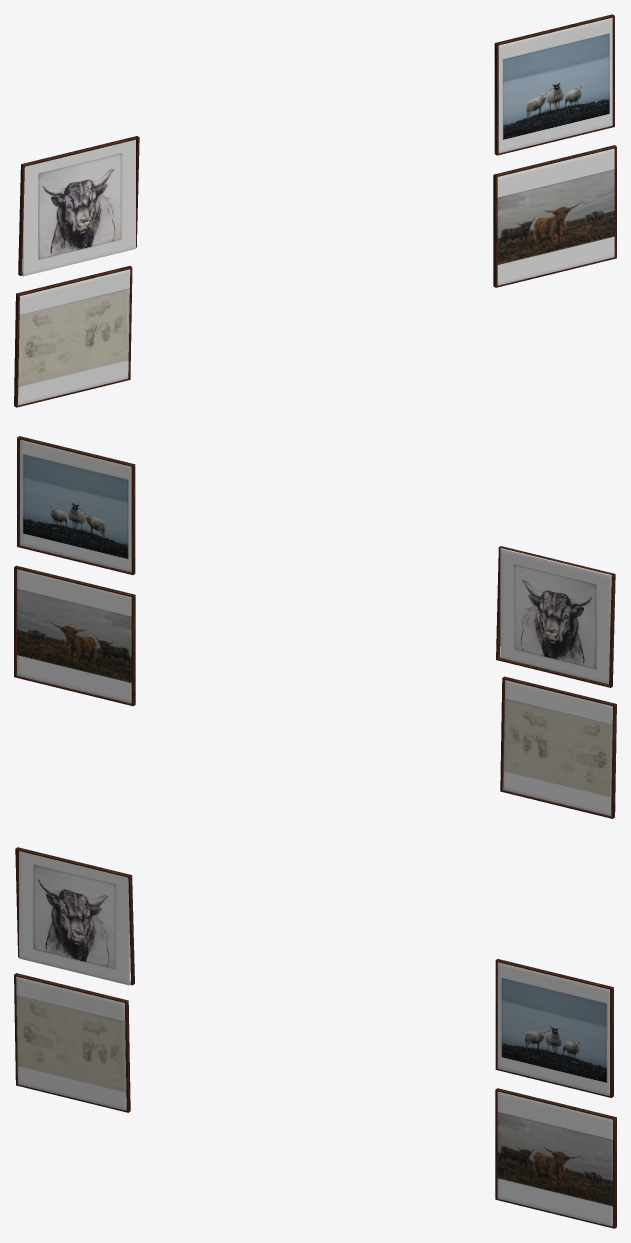
The model's file is bull.glb.
3 views of the same model, one above another, from view 1: azimuth 30°, elevation 25°; view 2: azimuth 150°, elevation 25°; view 3: azimuth 330°, elevation 25° (orthographic).
Parts seen in each view (by area): view 1: 62x82frame.002_436.005, 62x82frame.002_436.004, Object_19, Object_19.001, Object_18, Object_18.001; view 2: 62x82frame.002_436.005, 62x82frame.002_436.004, Object_19, Object_19.001, Object_18, Object_18.001; view 3: 62x82frame.002_436.005, 62x82frame.002_436.004, Object_19, Object_19.001, Object_18, Object_18.001.
Boxes of the visible parts, x1=… form: 62x82frame.002_436.005: x1=18, y1=136, x2=139, y2=276; 62x82frame.002_436.004: x1=14, y1=266, x2=132, y2=407; Object_19: x1=497, y1=148, x2=614, y2=285; Object_19.001: x1=498, y1=17, x2=612, y2=153; Object_18: x1=493, y1=145, x2=616, y2=287; Object_18.001: x1=494, y1=14, x2=614, y2=155; 62x82frame.002_436.005: x1=496, y1=546, x2=615, y2=687; 62x82frame.002_436.004: x1=500, y1=676, x2=616, y2=818; Object_19: x1=17, y1=569, x2=131, y2=703; Object_19.001: x1=20, y1=439, x2=131, y2=572; Object_18: x1=14, y1=565, x2=135, y2=706; Object_18.001: x1=17, y1=436, x2=135, y2=574; 62x82frame.002_436.005: x1=15, y1=847, x2=134, y2=985; 62x82frame.002_436.004: x1=14, y1=973, x2=130, y2=1112; Object_19: x1=497, y1=1091, x2=612, y2=1226; Object_19.001: x1=497, y1=962, x2=609, y2=1095; Object_18: x1=495, y1=1088, x2=616, y2=1228; Object_18.001: x1=495, y1=959, x2=613, y2=1097.
Bounding box in the file's own units: 3.53 × 1.37 × 0.0974.
Materials: 8 (8 with a texture image).
